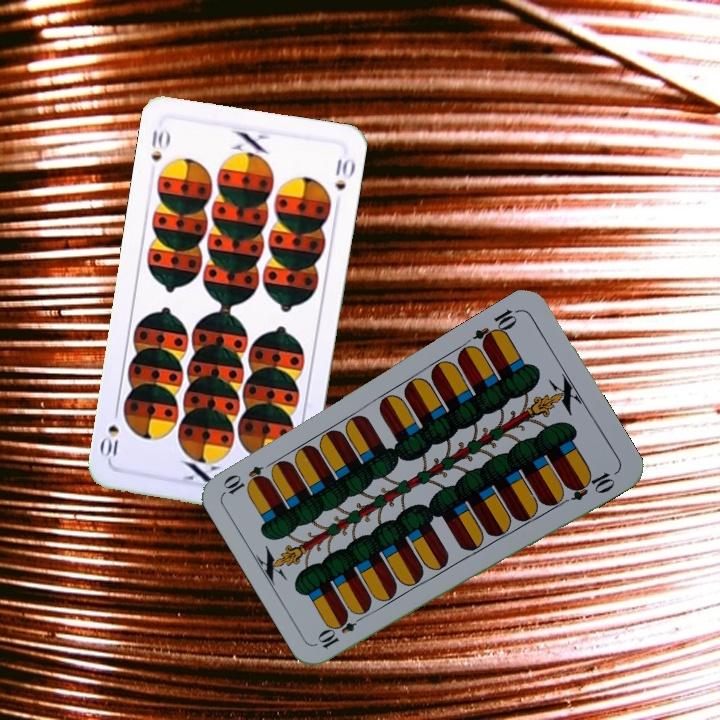E10: (469, 305, 523, 350), (314, 609, 368, 651)
S10: (147, 125, 173, 164)
